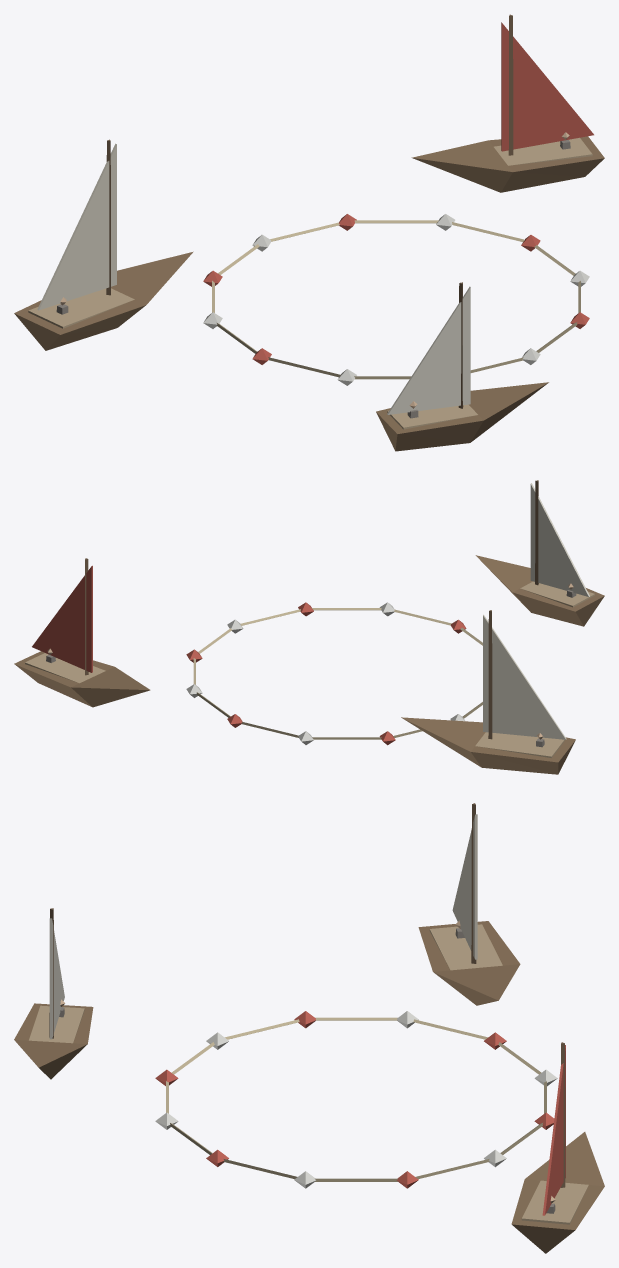
File: fishing-boats.glb
3 renders of one model, top to bottom at view 1: azimuth 30°, elevation 25°; view 2: azimuth 150°, elevation 25°; view 3: azimuth 270°, elevation 25°, orthographic. The views are drawn at different scales.
Visible parts, largest first — view 1: LOD0; view 2: LOD0; view 3: LOD0.
Part boxes in pixels (box(x1,y1,x2,y2)): LOD0: box(14, 14, 604, 451); LOD0: box(14, 480, 604, 774); LOD0: box(14, 803, 604, 1253).
Size of what is drawn, in the model's own units: 1.49 by 0.443 by 1.2.
